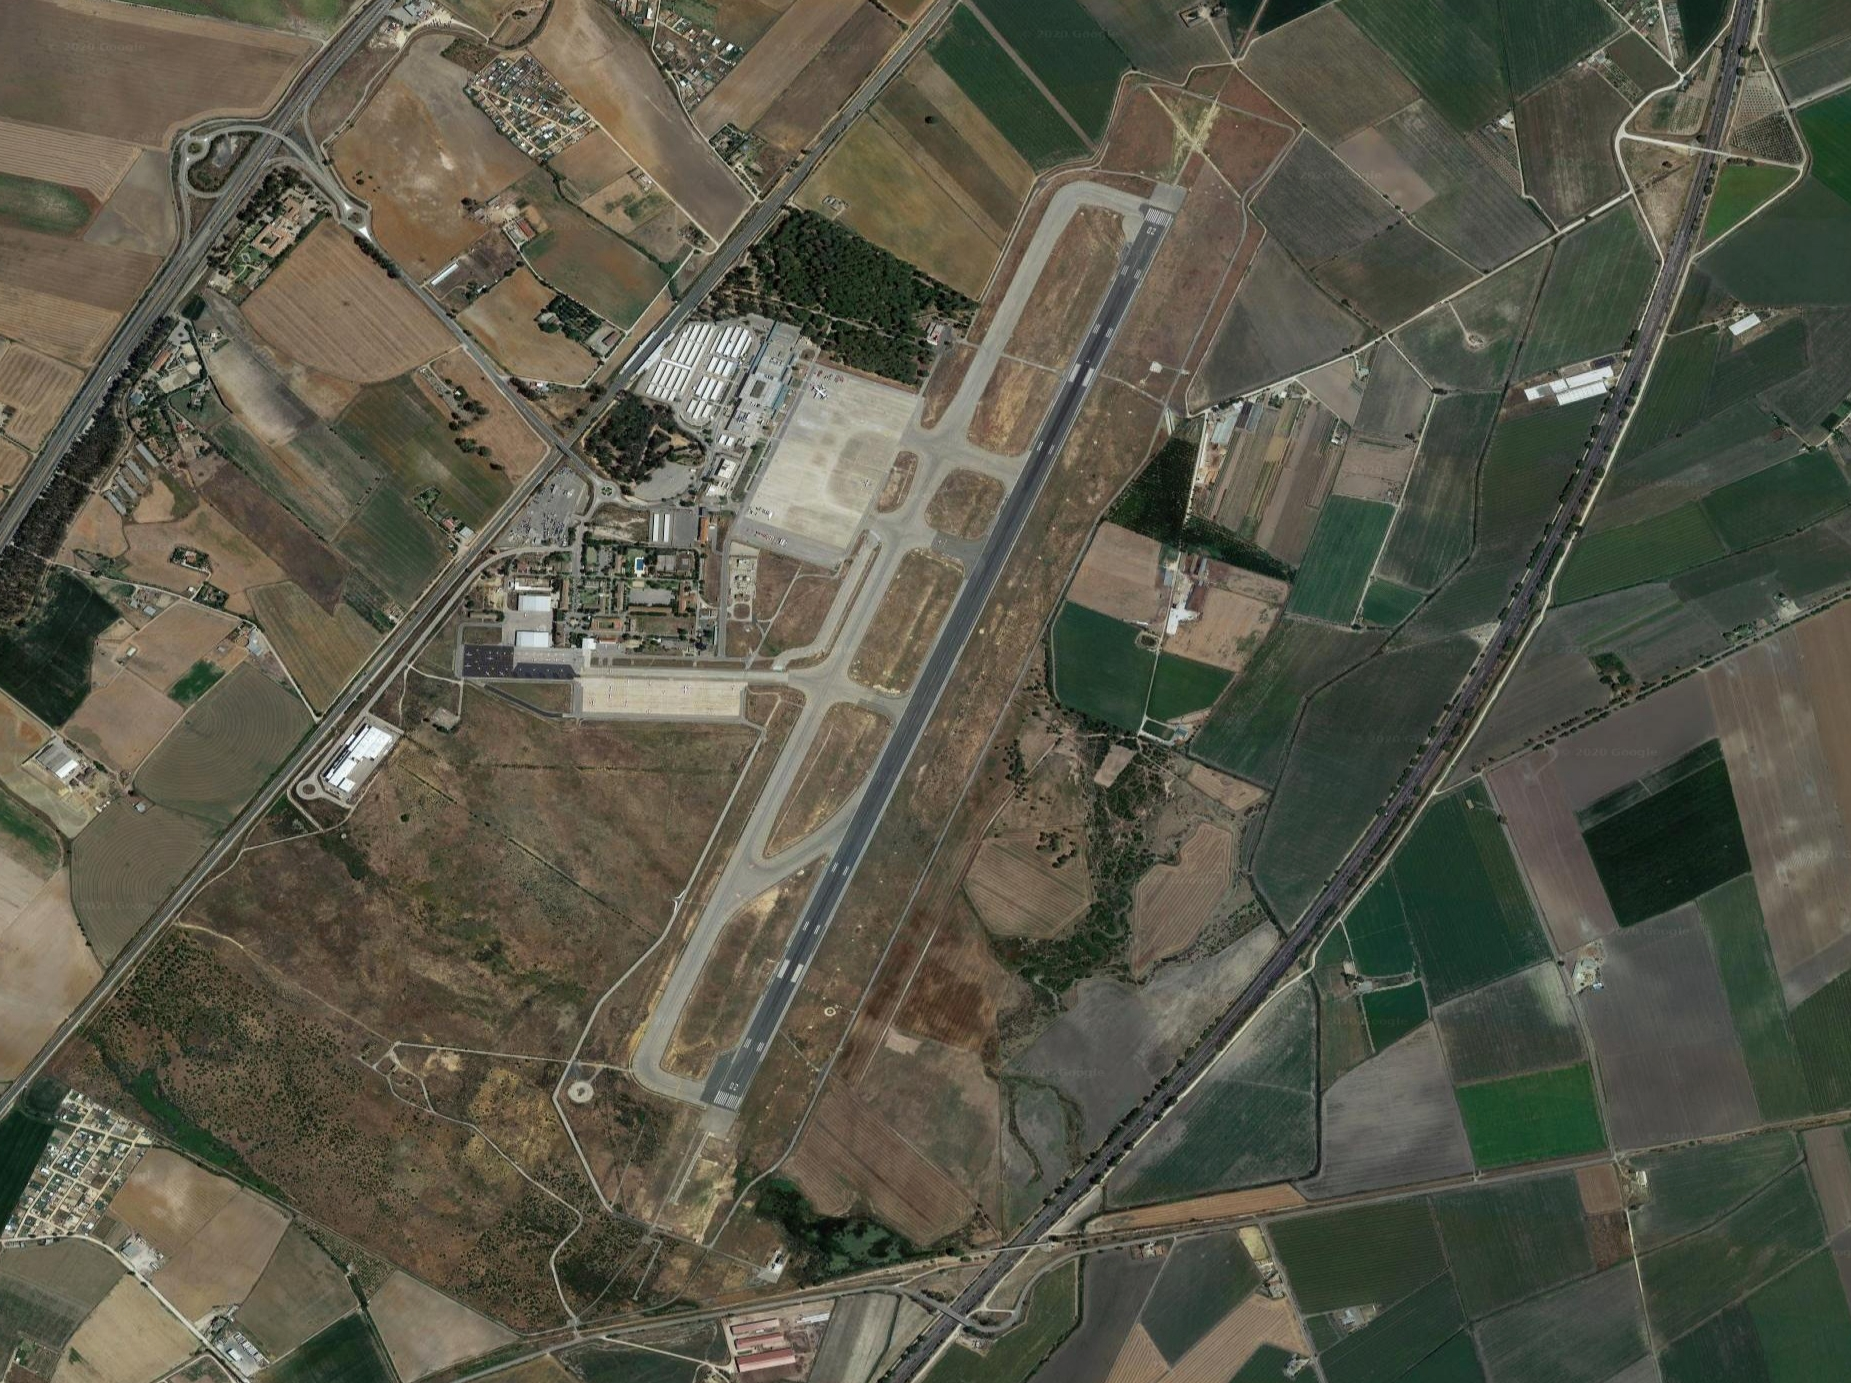airport: (458, 176, 1194, 1117)
motorway: (1167, 933, 1319, 1087), (1276, 784, 1430, 937), (1478, 479, 1632, 632), (889, 1230, 1042, 1383), (1020, 1084, 1172, 1236), (1401, 630, 1553, 783), (163, 105, 295, 260), (1558, 320, 1672, 479), (81, 264, 195, 407), (1682, 1, 1773, 169), (1632, 166, 1725, 320), (1, 389, 84, 556), (288, 119, 389, 246), (372, 246, 482, 362), (89, 872, 195, 989), (186, 757, 292, 875), (1, 985, 105, 1103), (279, 1, 384, 110)
